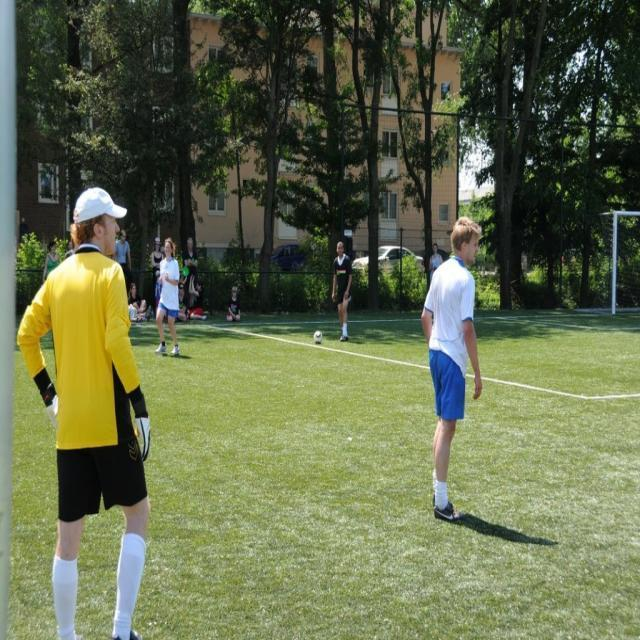football: (303, 329, 332, 348)
